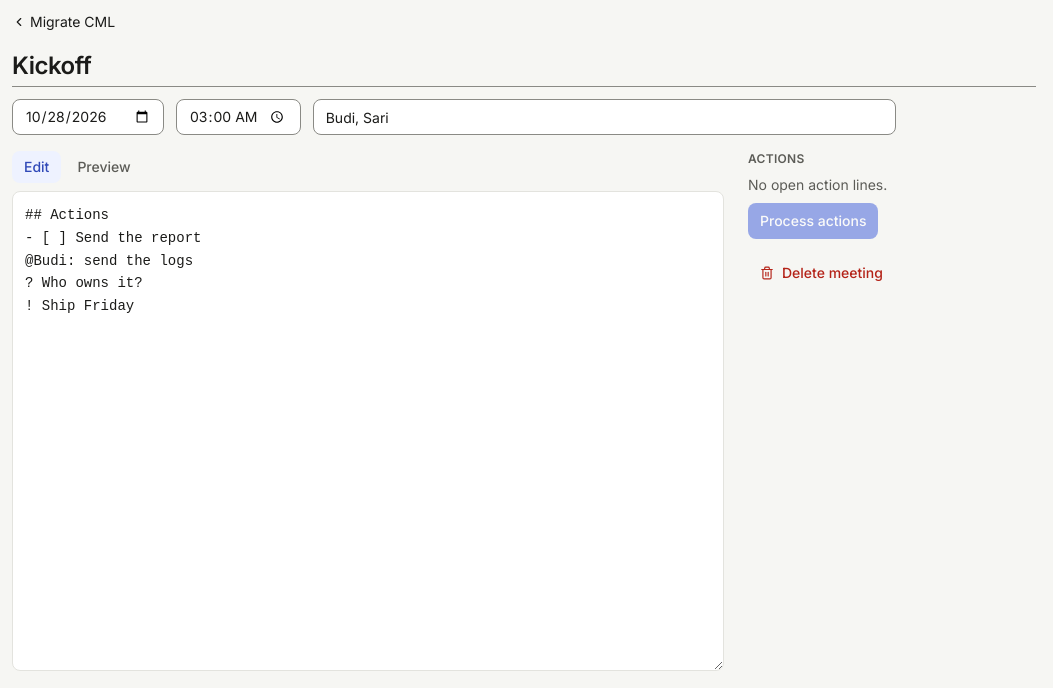
Test case: MeetingPage › autosave › shows the typed text and a retry when saving fails
Replace the text in the text box named "Meeting notes" with "kept on screen" at (368, 431), box 12,191 -> 724,671
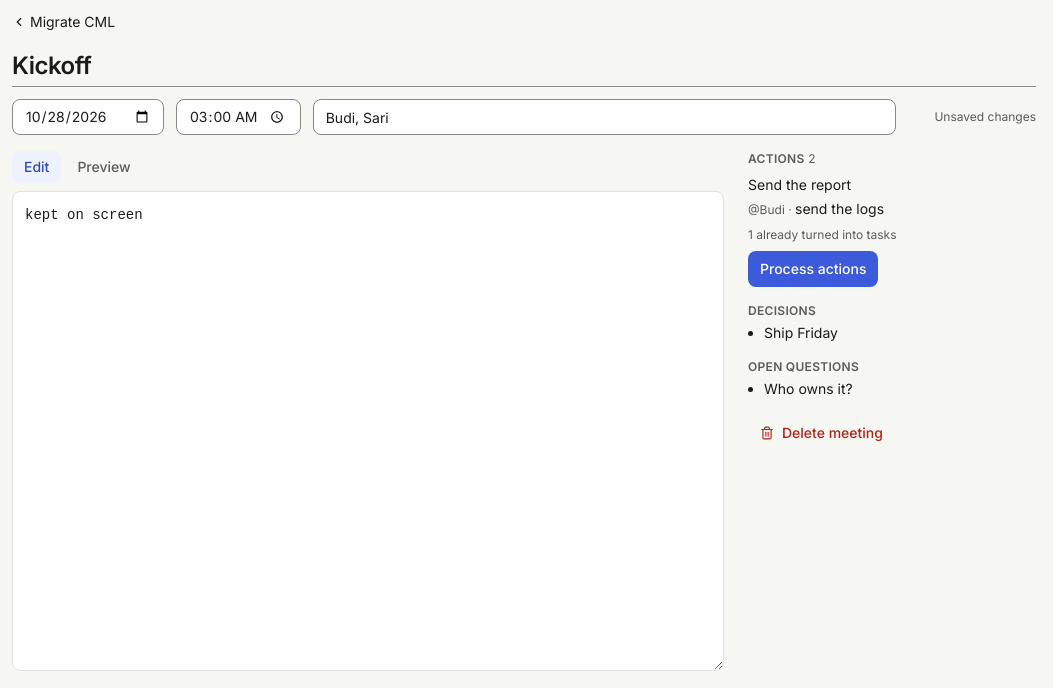
Leave the text box named "Meeting notes", box 12,191 -> 724,671
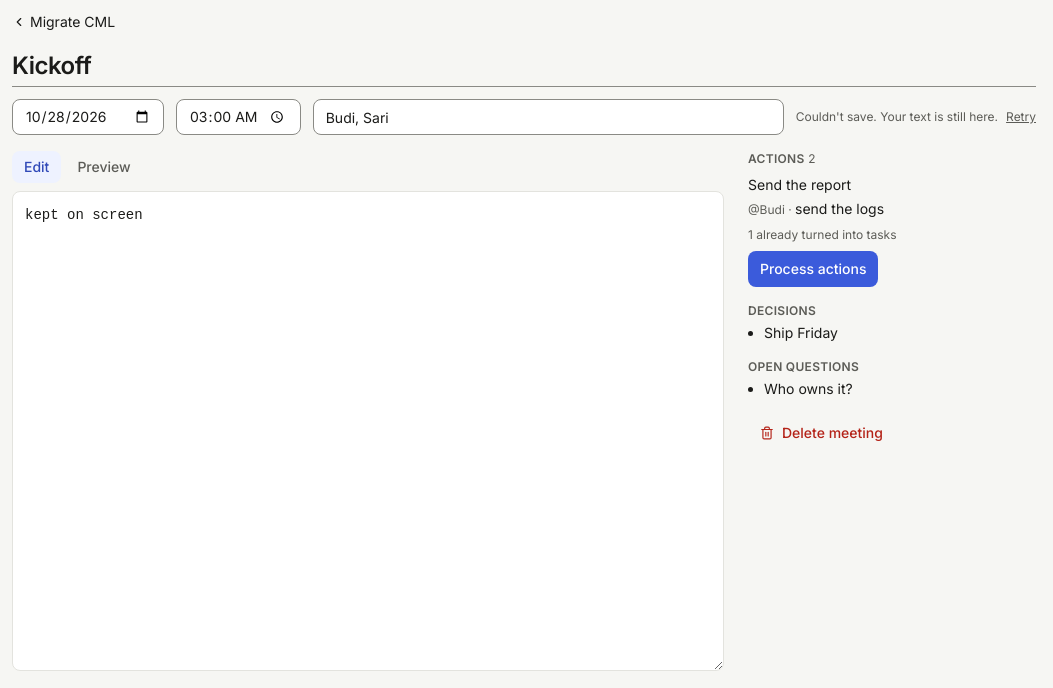
Expected: the text "Couldn't save. Your text is still here. Retry" is shown, 796,109 -> 1036,125
Click the button "Retry" at (1021, 117), box 1006,109 -> 1036,125
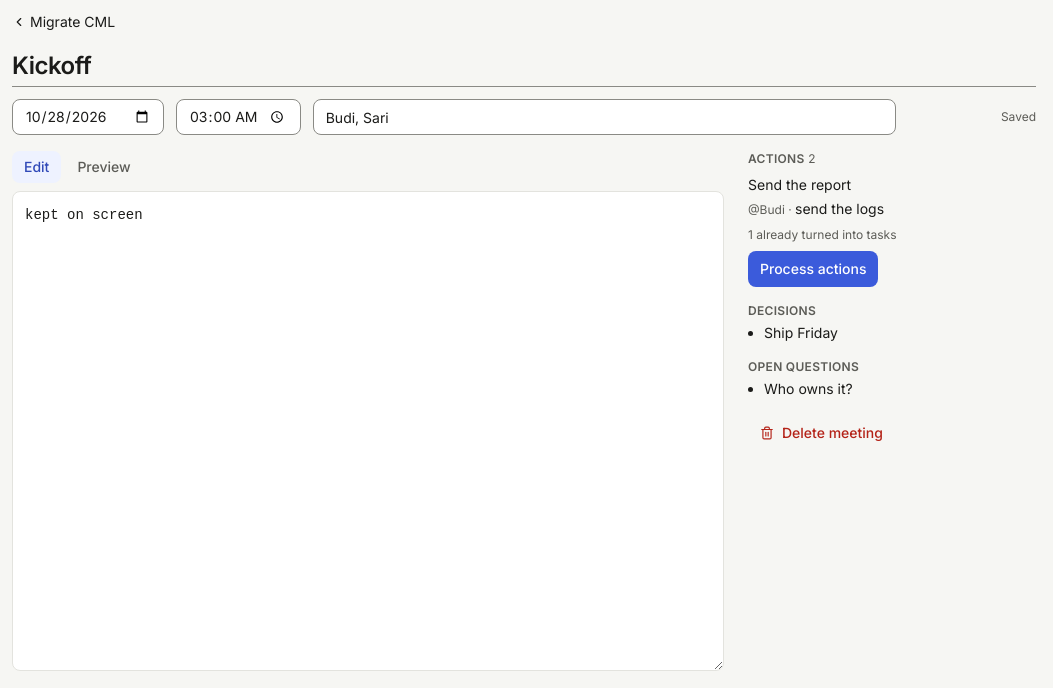
Expected: the text "Saved" is shown, 1001,109 -> 1036,124
